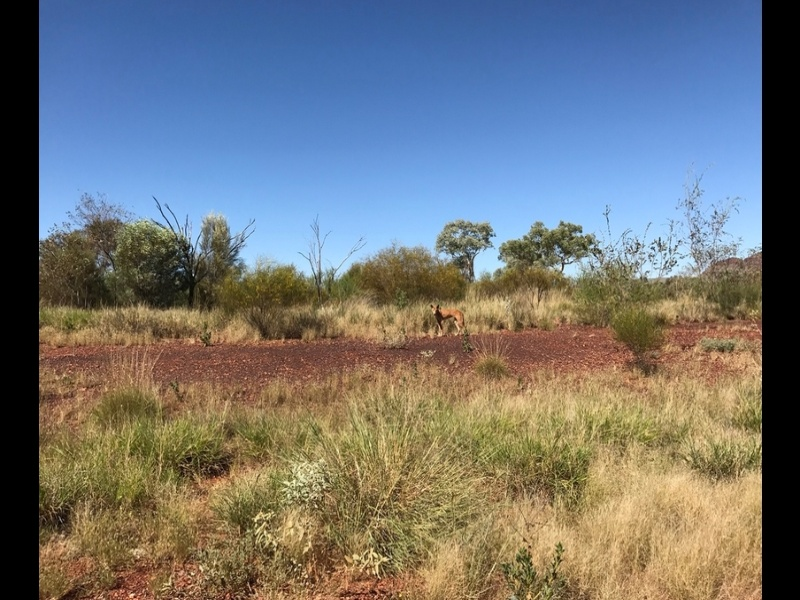dog: (429, 302, 469, 337)
